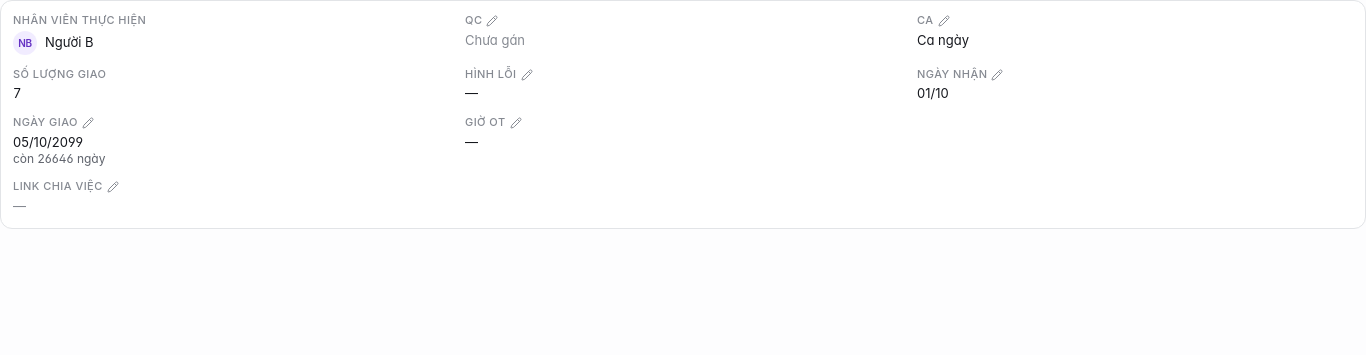
Test: TaskFacts — QC (PD-047) › an older task without QC must get one: saving empty is refused
Expected: the text "Chưa gán" is shown, 465,32 -> 525,48
Click the button named "Sửa QC": (683, 34) 457,9 -> 909,59
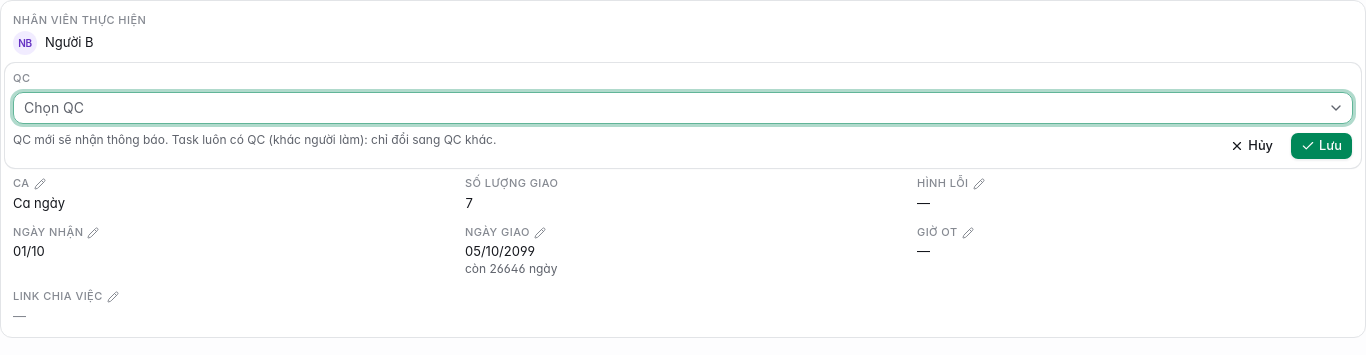
Click the button "Lưu": (1322, 146) 1290,132 -> 1353,160
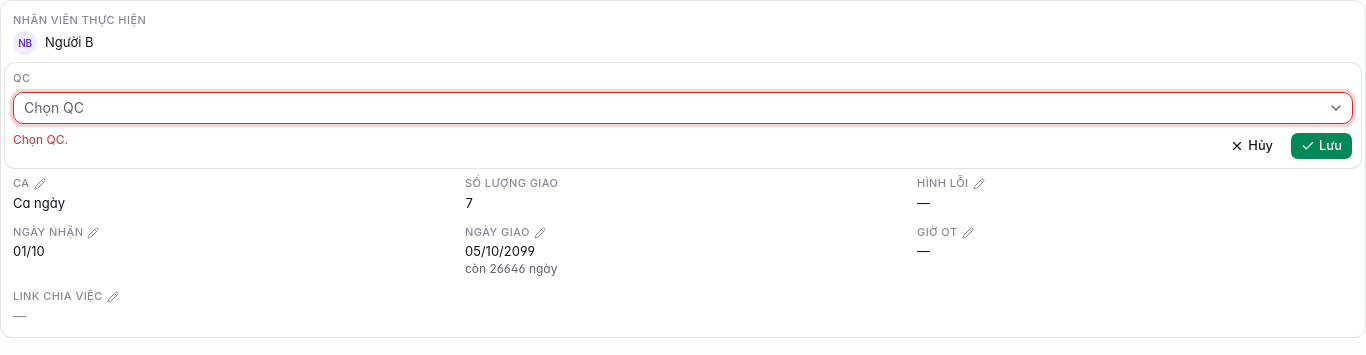
Now the message reads "Chọn QC.", box 13,132 -> 68,147
